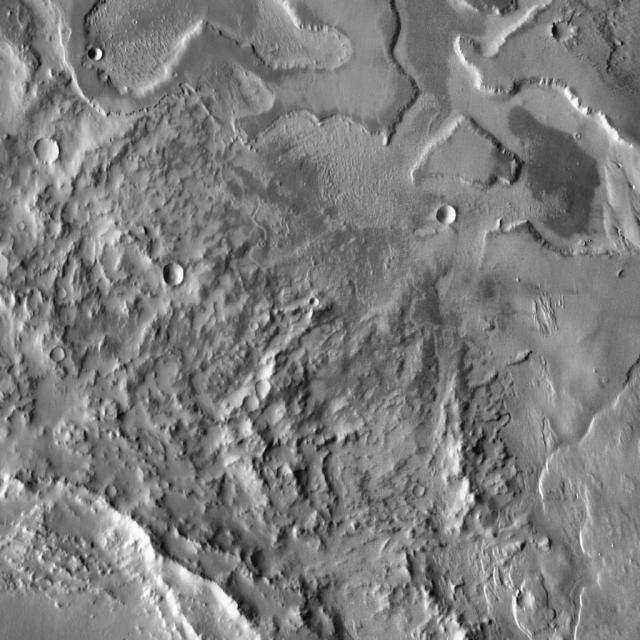crater: (38, 139, 63, 165), (167, 266, 189, 289), (556, 22, 578, 44), (441, 208, 461, 229), (520, 594, 537, 610), (258, 384, 274, 400), (247, 399, 262, 414), (92, 48, 106, 63), (54, 349, 68, 364), (416, 488, 428, 500), (107, 489, 118, 500), (61, 290, 71, 301), (314, 302, 322, 310), (254, 325, 262, 333), (20, 224, 27, 232)
